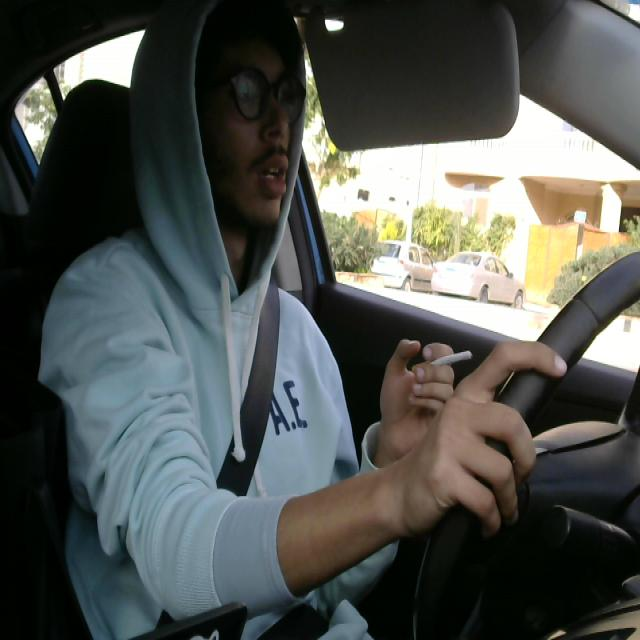smoking: (394, 343, 478, 374)
